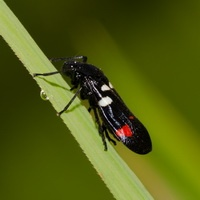insect: (33, 56, 151, 153)
